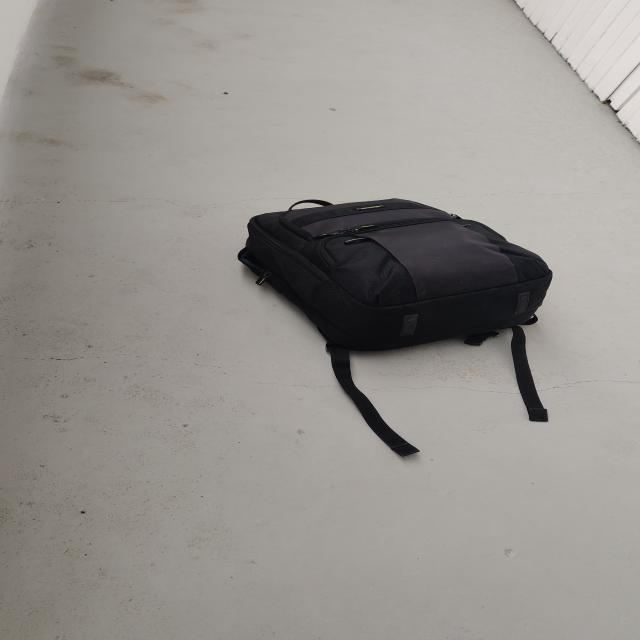backpack: (224, 192, 564, 360)
